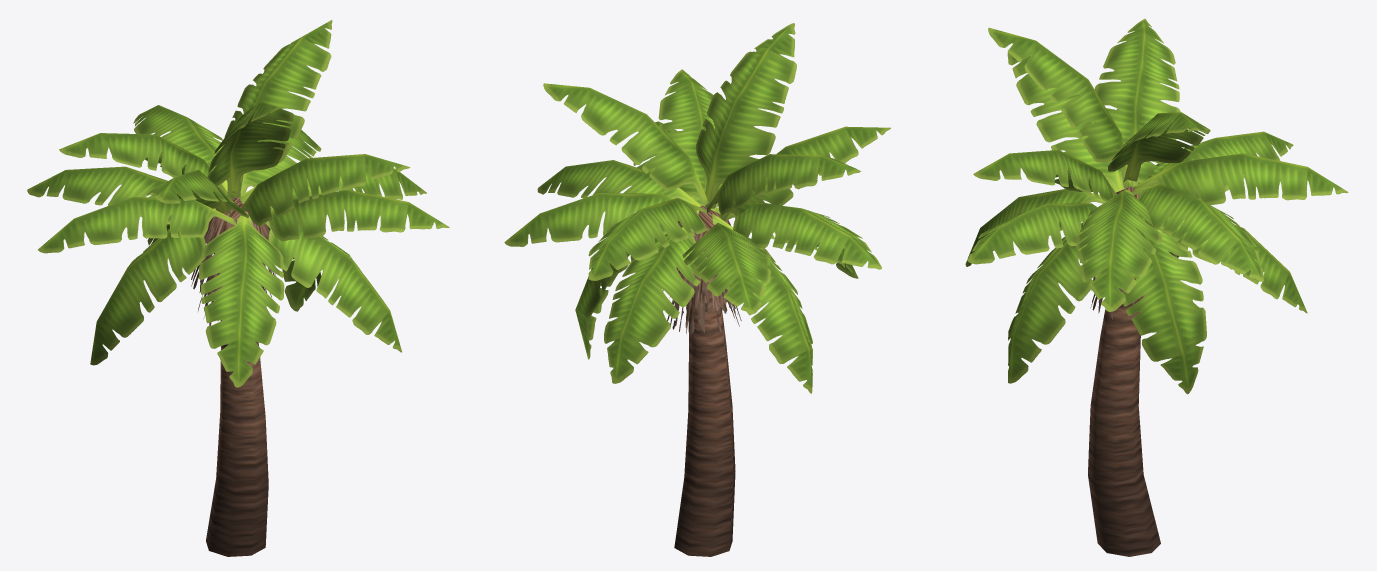
The model's file is Ctn_PalmTree_01_v01.FBX.
3 renders of one model, left to right at view 1: azimuth 30°, elevation 25°; view 2: azimuth 150°, elevation 25°; view 3: azimuth 270°, elevation 25°, orthographic. The views are drawn at different scales.
Parts seen in each view (by area): view 1: Ctn_PalmTree_01_v01; view 2: Ctn_PalmTree_01_v01; view 3: Ctn_PalmTree_01_v01.
Boxes of the visible parts, x1,y1,x2,y2 form: Ctn_PalmTree_01_v01: (27,20,449,556); Ctn_PalmTree_01_v01: (504,23,890,556); Ctn_PalmTree_01_v01: (965,19,1348,556).
Size of the model in its own units: 207 by 250 by 190.
